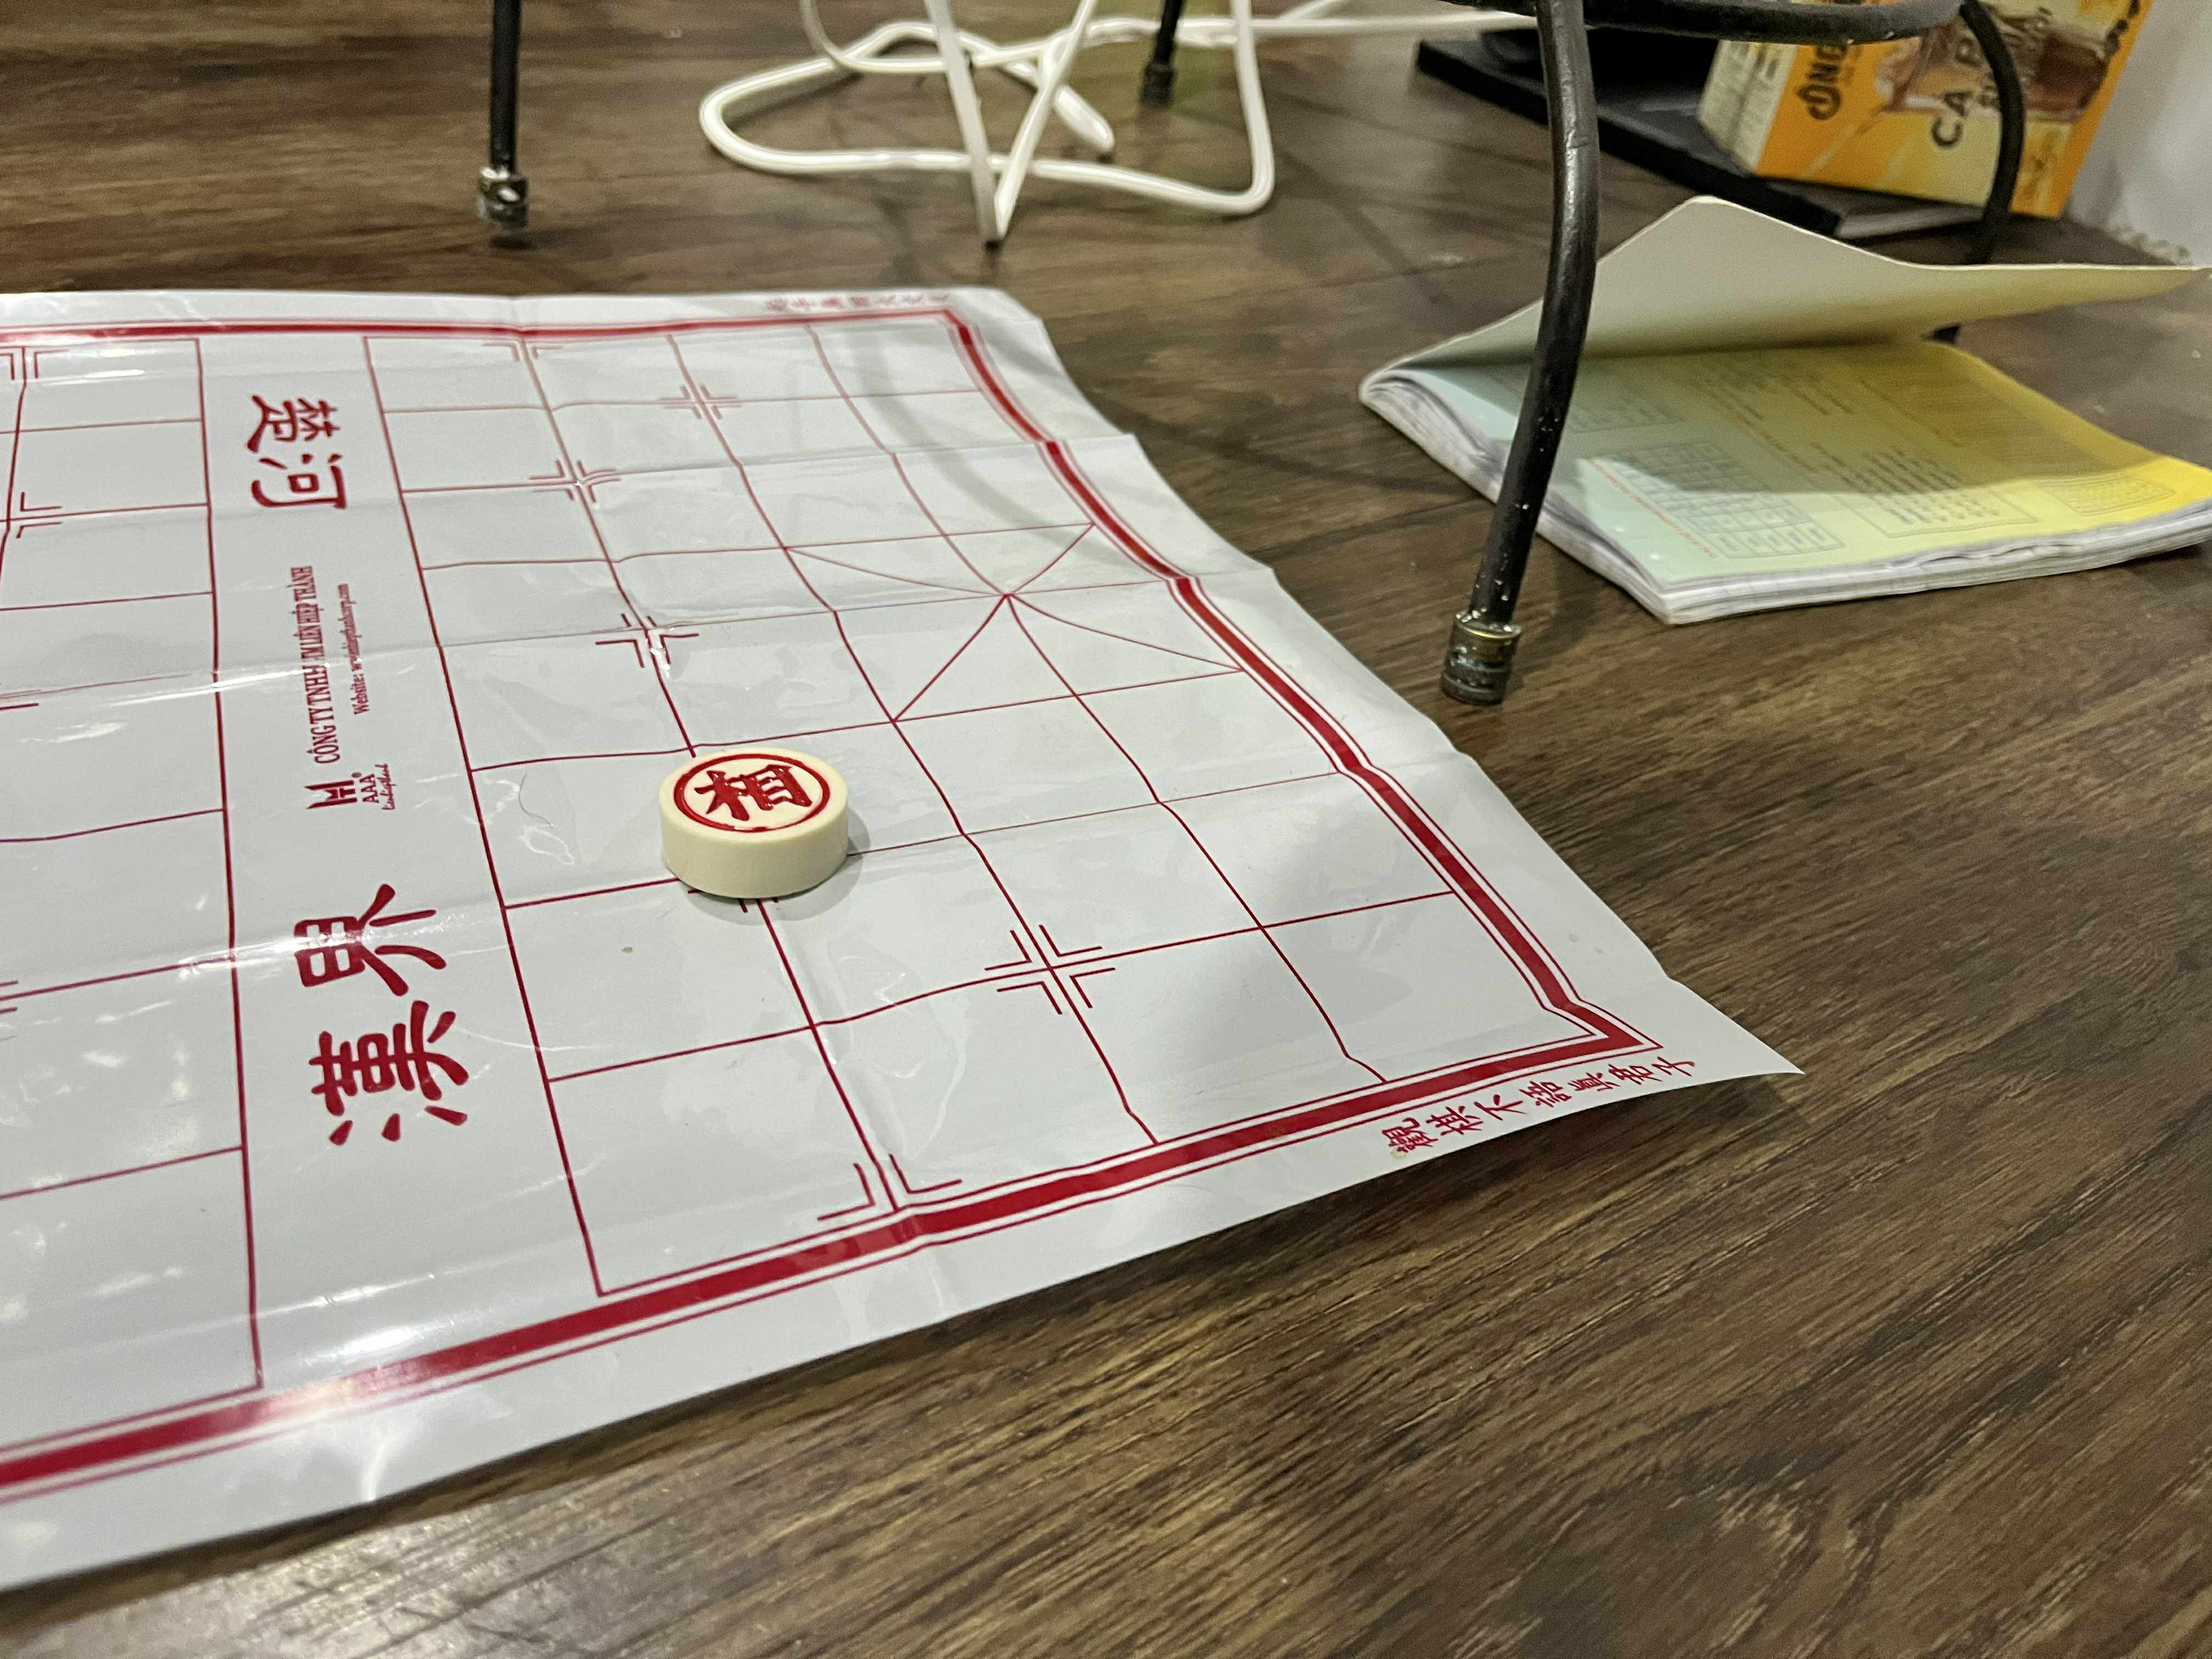red-elephant: (657, 749, 852, 849)
